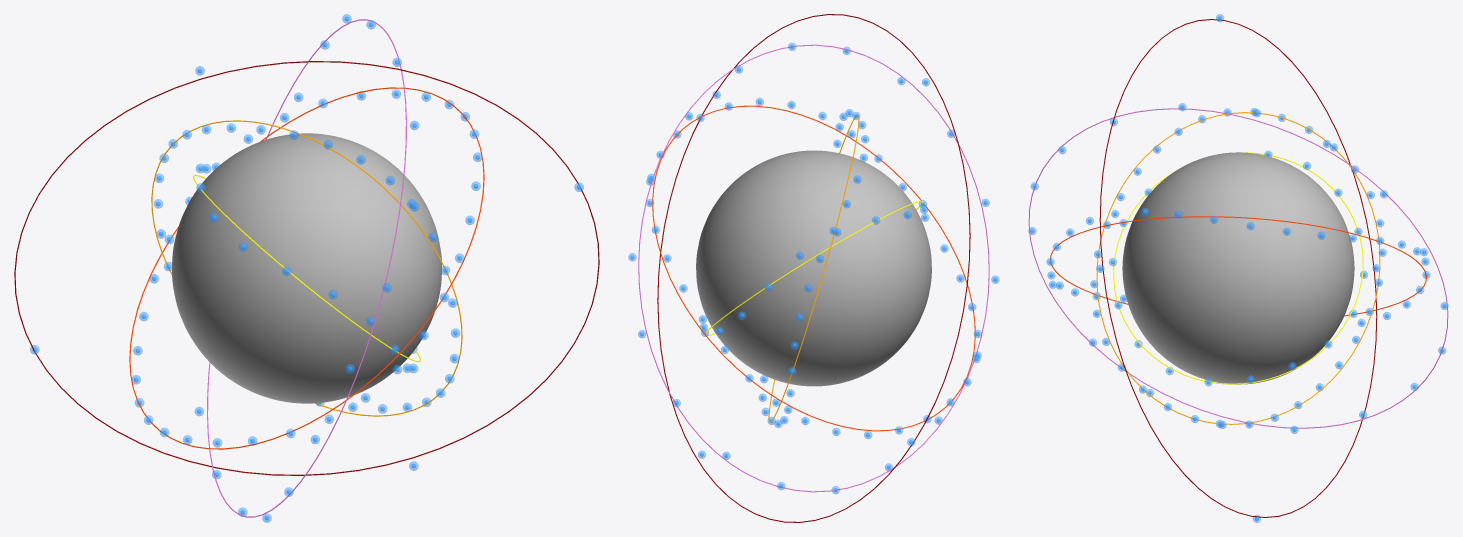
The picture shows the model from 3 angles, left to right: view 1: azimuth 30°, elevation 25°; view 2: azimuth 150°, elevation 25°; view 3: azimuth 270°, elevation 25°; orthographic projection. The views are drawn at different scales.
Parts seen in each view (by area): view 1: Fl, object 228, object 126, object 191, object 61; view 2: Fl, object 228, object 191, object 126, object 61; view 3: Fl, object 228, object 191, object 61, object 24, object 126.
Boxes of the visible parts, x1=… form: Fl: x1=172, y1=133, x2=441, y2=403; object 228: x1=14, y1=61, x2=599, y2=475; object 126: x1=129, y1=87, x2=484, y2=449; object 191: x1=207, y1=19, x2=406, y2=517; object 61: x1=151, y1=120, x2=462, y2=416; Fl: x1=696, y1=150, x2=931, y2=386; object 228: x1=657, y1=14, x2=970, y2=522; object 191: x1=638, y1=44, x2=989, y2=492; object 126: x1=652, y1=105, x2=975, y2=431; object 61: x1=768, y1=115, x2=859, y2=422; Fl: x1=1122, y1=152, x2=1354, y2=384; object 228: x1=1099, y1=19, x2=1377, y2=517; object 191: x1=1028, y1=108, x2=1448, y2=428; object 61: x1=1096, y1=112, x2=1380, y2=424; object 24: x1=1113, y1=152, x2=1363, y2=384; object 126: x1=1050, y1=216, x2=1426, y2=316.
Bounding box in the file's own units: 8.68 × 9.04 × 8.04.
